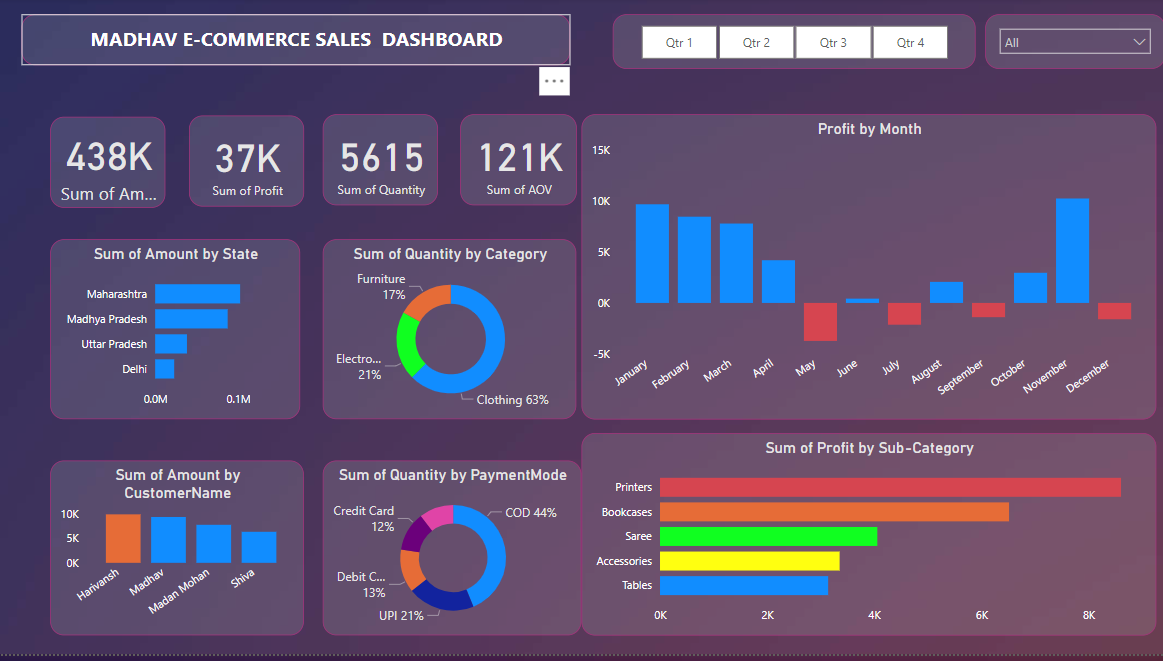

What the dashboard file says about the page in this screenshot:
{"tool":"powerbi","page":{"name":"Page 1","canvas":[1280,720],"ordinal":0},"visuals":[{"type":"textbox","box":[24.7,17.8,602.5,56.3],"z":0},{"type":"columnChart","title":" Profit by Month","fields":{"Category":["Orders.Order Date.Variation.Date Hierarchy.Month"],"Y":["Details.Profit"]},"box":[639.6,127.6,631.4,334.9],"z":1000},{"type":"barChart","fields":{"Category":["Details.Sub-Category"],"Y":["Details.Profit"]},"box":[639.6,477.6,631.4,222.3],"z":2000},{"type":"donutChart","fields":{"Y":["Details.Quantity"],"Category":["Details.Category"]},"box":[355.5,264.9,278.6,197.6],"z":3000},{"type":"donutChart","fields":{"Y":["Details.Quantity"],"Category":["Details.PaymentMode"]},"box":[355.5,507.8,284.1,192.2],"z":4000},{"type":"card","fields":{"Values":["Details.Amount"]},"box":[56.3,130.4,126.3,100.2],"z":5000},{"type":"card","fields":{"Values":["Details.Profit"]},"box":[208.6,129,126.3,100.2],"z":6000},{"type":"card","fields":{"Values":["Details.Quantity"]},"box":[355.5,127.6,126.3,100.2],"z":7000},{"type":"card","fields":{"Values":["Details.AOV"]},"box":[506.5,127.6,127.6,100.2],"z":8000},{"type":"barChart","fields":{"Category":["Orders.State"],"Y":["Details.Amount"]},"box":[56.3,264.9,274.5,197.6],"z":9000},{"type":"columnChart","fields":{"Category":["Orders.CustomerName"],"Y":["Details.Amount"]},"box":[56.3,507.8,278.6,192.2],"z":10000},{"type":"slicer","fields":{"Values":["Orders.Order Date.Variation.Date Hierarchy.Quarter"]},"box":[673.9,17.8,398,60.4],"z":11000},{"type":"slicer","fields":{"Values":["Orders.State"]},"box":[1082.9,17.8,197.6,60.4],"z":12000}]}

Visuals, with their boxes in screenshot pixels (x1, y1, x2, y2), scaled from the page's 1280x720 canvas onto the 1163x661 screenshot:
textbox: bbox=(22, 16, 570, 68)
" Profit by Month" columnChart: bbox=(581, 117, 1155, 425)
barChart - Details.Sub-Category x Details.Profit: bbox=(581, 438, 1155, 643)
donutChart - Details.Quantity x Details.Category: bbox=(323, 243, 576, 425)
donutChart - Details.Quantity x Details.PaymentMode: bbox=(323, 466, 581, 643)
card - Details.Amount: bbox=(51, 120, 166, 212)
card - Details.Profit: bbox=(190, 118, 304, 210)
card - Details.Quantity: bbox=(323, 117, 438, 209)
card - Details.AOV: bbox=(460, 117, 576, 209)
barChart - Orders.State x Details.Amount: bbox=(51, 243, 301, 425)
columnChart - Orders.CustomerName x Details.Amount: bbox=(51, 466, 304, 643)
slicer - Orders.Order Date.Variation.Date Hierarchy.Quarter: bbox=(612, 16, 974, 72)
slicer - Orders.State: bbox=(984, 16, 1162, 72)
